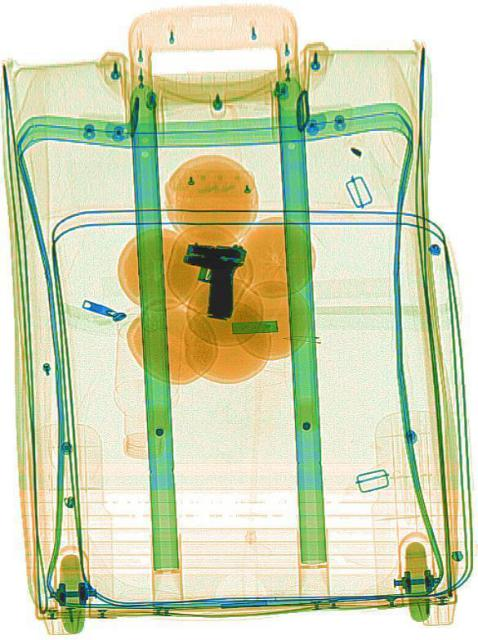Gun: (176, 238, 244, 320)
